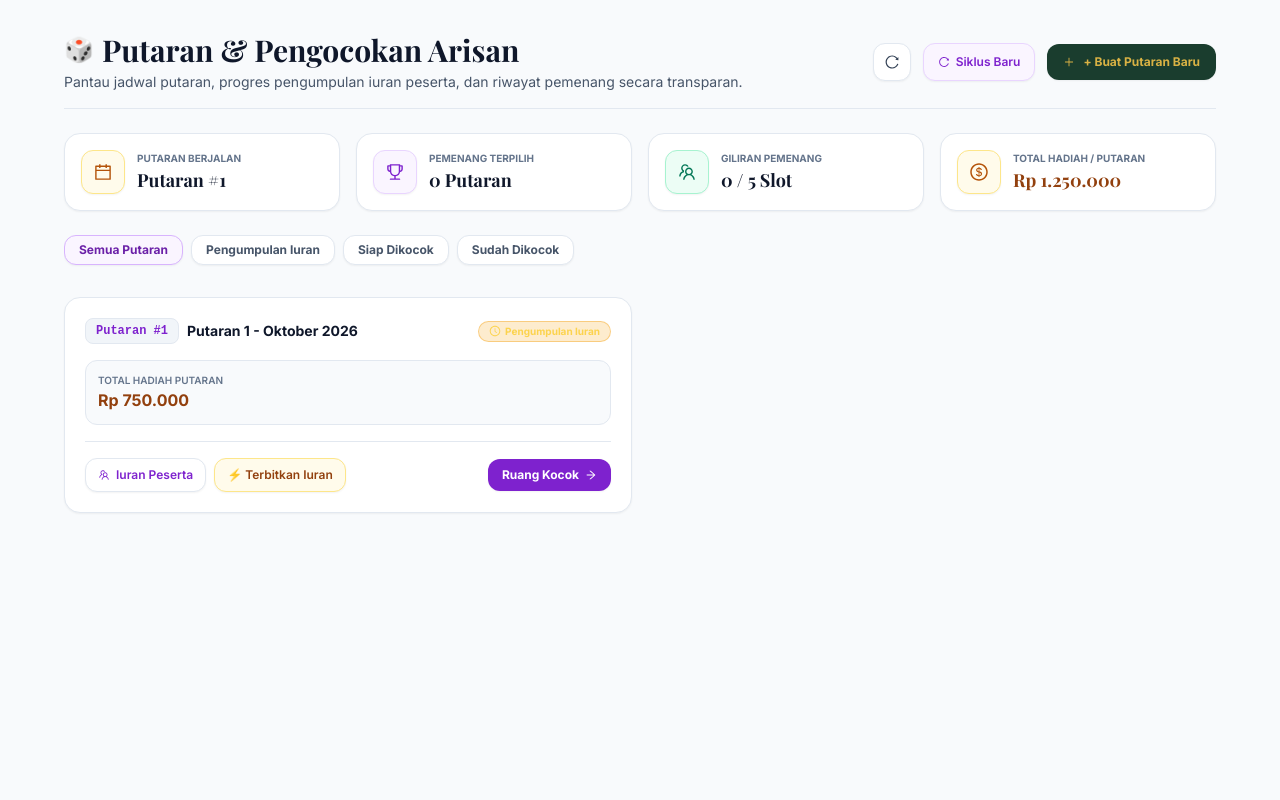
ARISAN-1.3 & PANITIA-ARISAN-1F F.2: ArisanRounds › menampilkan status peserta (Lunas, Menunggu verifikasi, Belum bayar, Dibatalkan) dan ringkasan; cancelled tidak dihitung belum bayar
Expected: the heading "Putaran 1 - Oktober 2026" is shown, [187,321,358,341]
Buka modal Rincian Iuran
Click the button "Iuran Peserta". click: [146, 475]
box: [85,458,206,492]
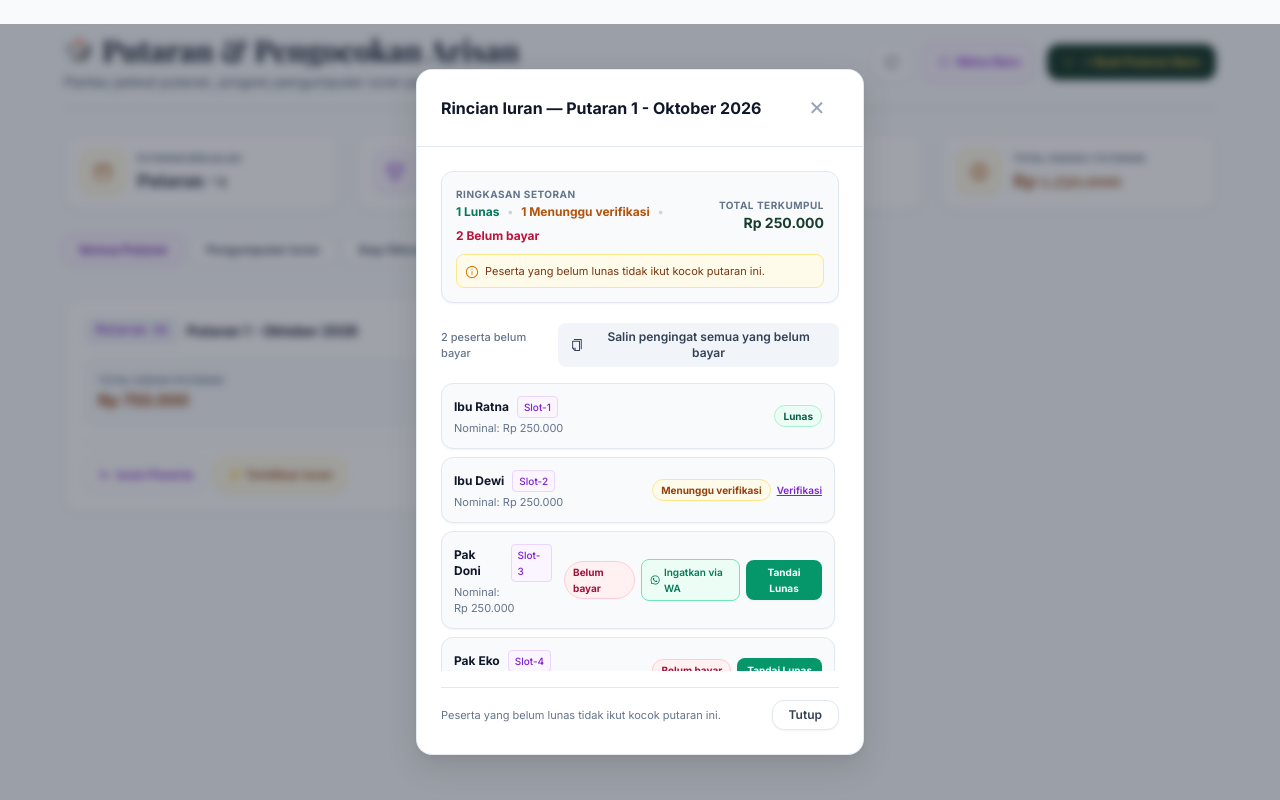
Now the heading "Rincian Iuran — Putaran 1 - Oktober 2026" is shown, box [441,96,761,120]
Now the text "Ringkasan Setoran" is shown, box [456,188,576,200]
Now the text "1 Lunas" is shown, box [456,204,500,220]
